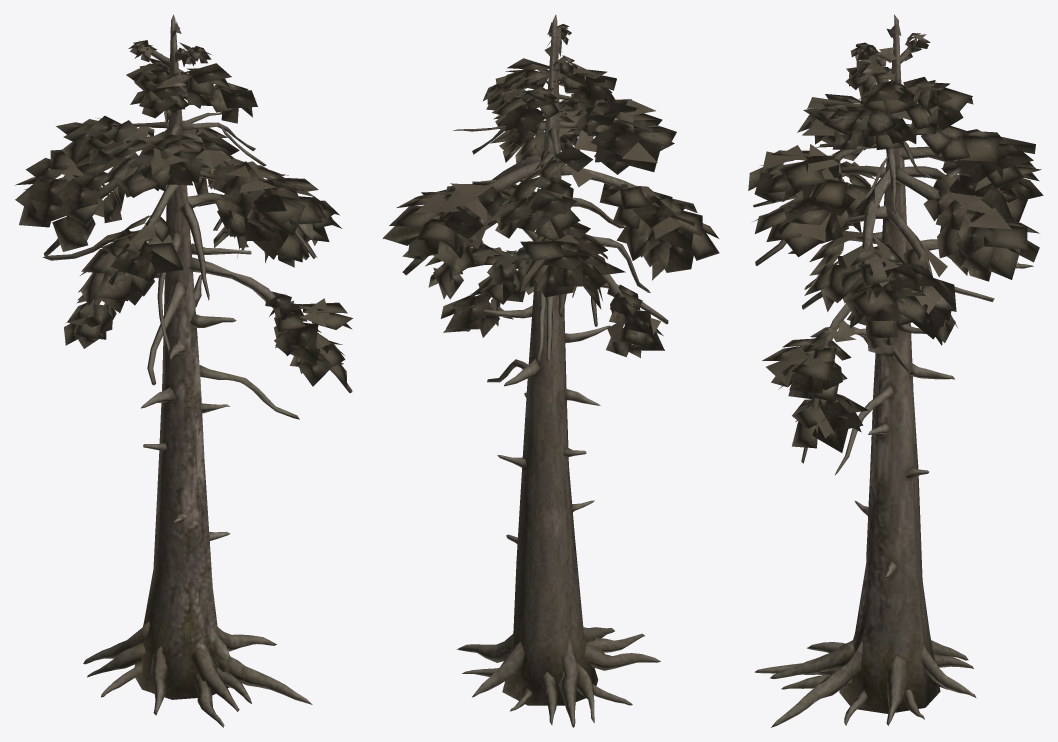
Rendered from x_tree_single_B.glb.
The picture shows the model from 3 angles, left to right: view 1: azimuth 30°, elevation 25°; view 2: azimuth 150°, elevation 25°; view 3: azimuth 270°, elevation 25°; orthographic projection.
Parts seen in each view (by area): view 1: x_tree_single_B; view 2: x_tree_single_B; view 3: x_tree_single_B.
Boxes of the visible parts, x1,y1,x2,y2 form: x_tree_single_B: [15, 14, 352, 727]; x_tree_single_B: [383, 14, 719, 727]; x_tree_single_B: [748, 14, 1043, 727].
Bounding box in the file's own units: 0.5353 × 1.21 × 0.4807.
Materials: 1 (1 with a texture image).
